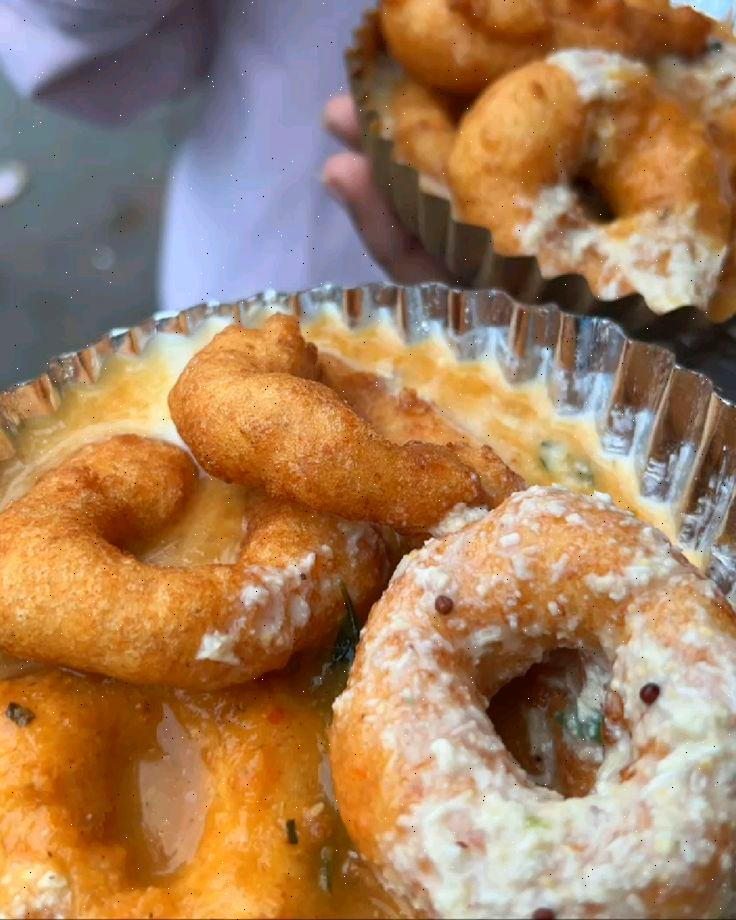medu vada: (5, 357, 709, 920), (374, 5, 736, 282)
